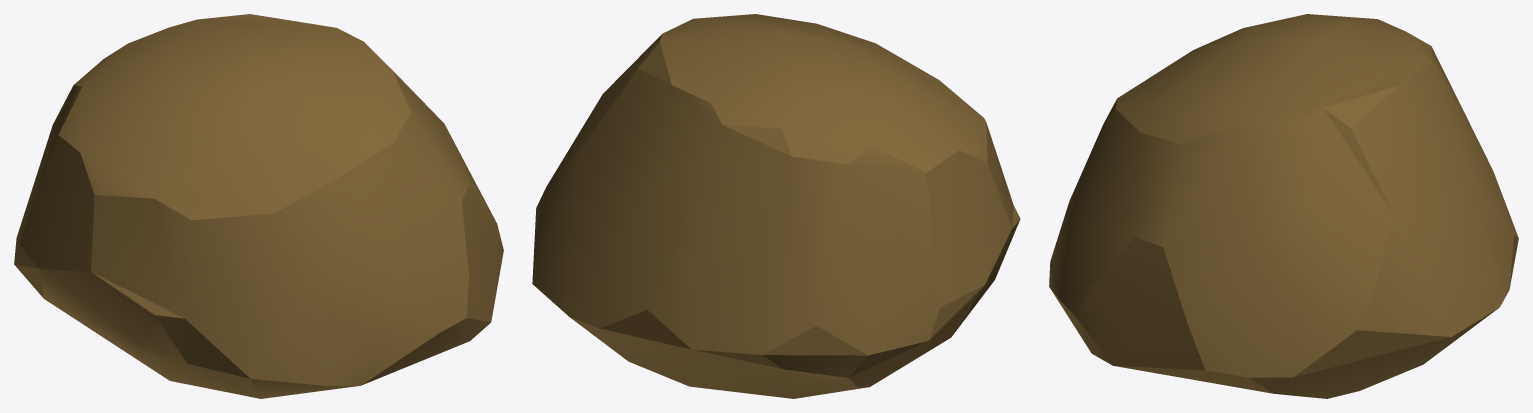
File: RockS1.FBX
3 renders of one model, left to right at view 1: azimuth 30°, elevation 25°; view 2: azimuth 150°, elevation 25°; view 3: azimuth 270°, elevation 25°, orthographic. The views are drawn at different scales.
Parts seen in each view (by area): view 1: Object006; view 2: Object006; view 3: Object006.
Part boxes in pixels (x1,y1,x2,y2): Object006: [14, 14, 503, 398]; Object006: [532, 14, 1020, 398]; Object006: [1049, 14, 1518, 398].
Size of the model in its own units: 106 by 75.09 by 101.
